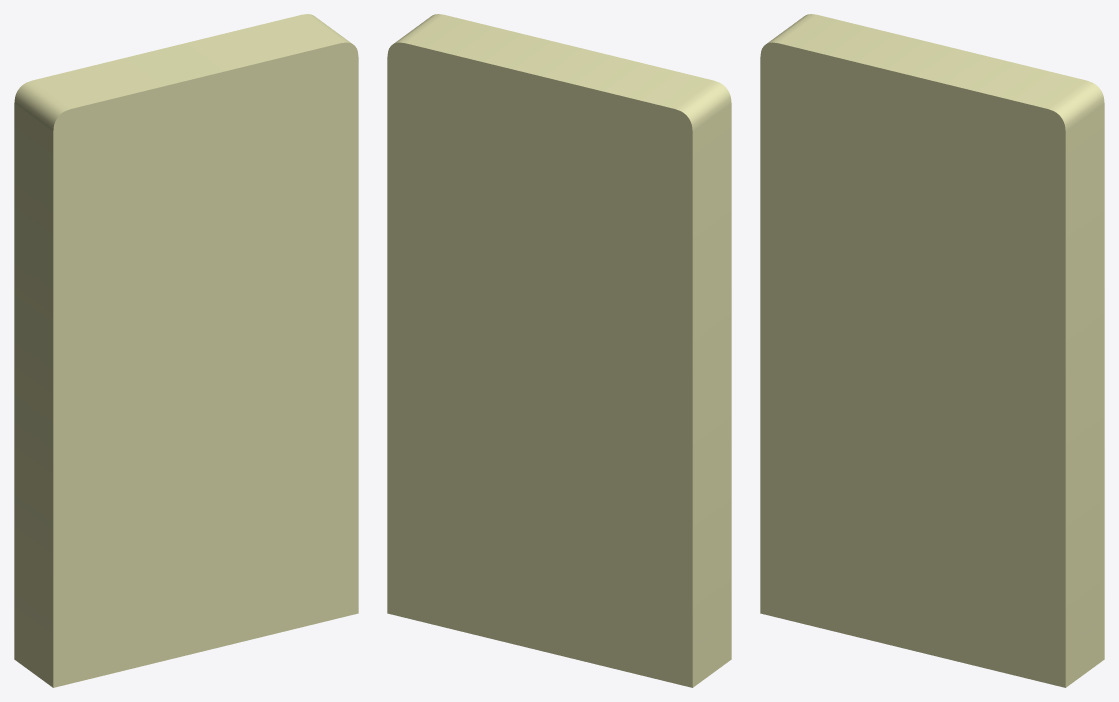
File: door2.fbx
The picture shows the model from 3 angles, left to right: view 1: azimuth 30°, elevation 25°; view 2: azimuth 150°, elevation 25°; view 3: azimuth 330°, elevation 25°; orthographic projection.
Visible parts, largest first — view 1: door; view 2: door; view 3: door.
Part boxes in pixels (x1,y1,x2,y2): door: [14, 14, 358, 687]; door: [387, 14, 731, 687]; door: [760, 14, 1104, 687].
Bounding box in the file's own units: 272 × 489 × 60.
